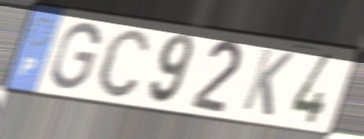2: (189, 39, 243, 115)
4: (287, 51, 335, 128)
9: (145, 32, 199, 106)
C: (94, 25, 153, 100)
G: (47, 20, 103, 92)
K: (238, 45, 297, 119)
